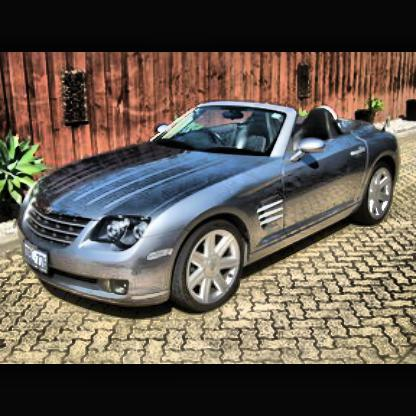Chrysler Crossfire Convertible 2008: (18, 104, 402, 317)
